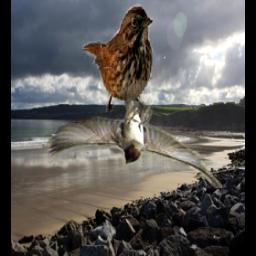Sparrow: (81, 3, 152, 113)
Swallow: (47, 96, 222, 189)
